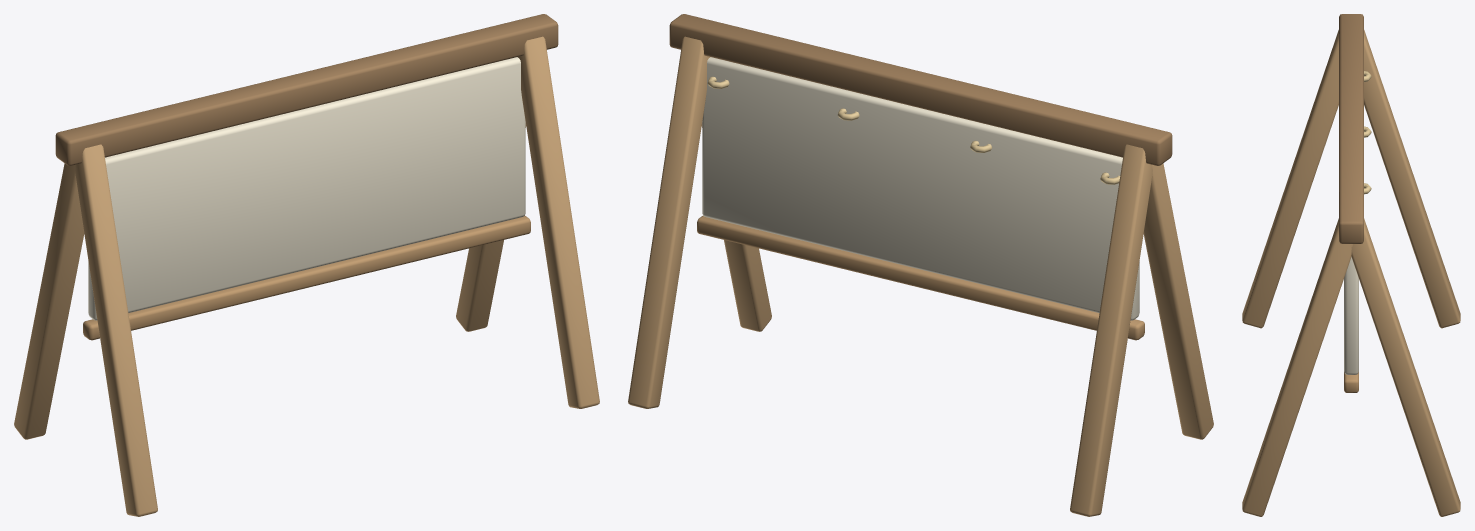
File: cavalete_lona.glb
3 views of the same model, side by side, from view 1: azimuth 30°, elevation 25°; view 2: azimuth 150°, elevation 25°; view 3: azimuth 270°, elevation 25° (orthographic). The views are drawn at different scales.
Visible parts, largest first — view 1: cavalete_lona; view 2: cavalete_lona; view 3: cavalete_lona.
Boxes of the visible parts, box(x1,y1,x2,y2) form: cavalete_lona: box(14, 14, 599, 516); cavalete_lona: box(628, 14, 1213, 516); cavalete_lona: box(1242, 14, 1460, 516).
Size of the model in its own units: 2 by 1.34 by 0.879.
